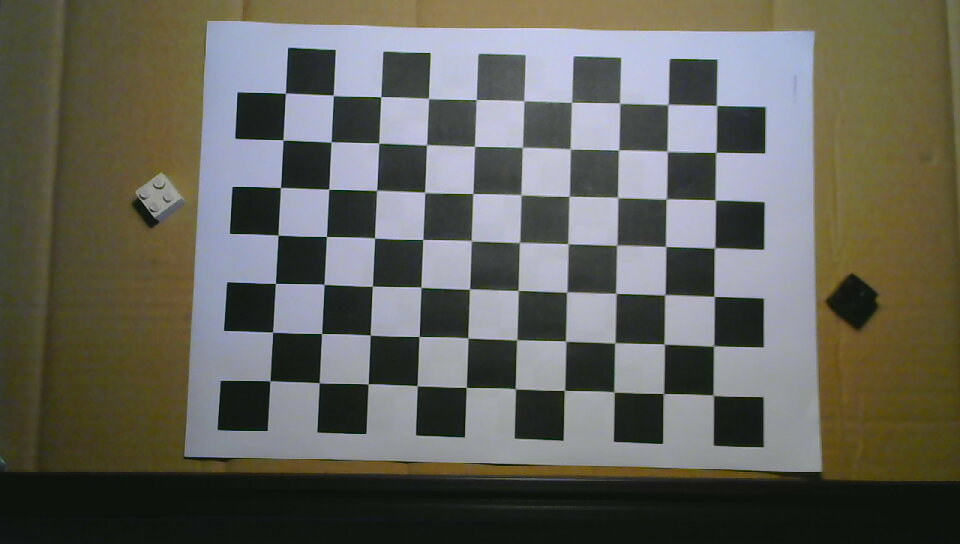bp: (826, 272, 879, 324)
wp: (134, 171, 183, 221)
